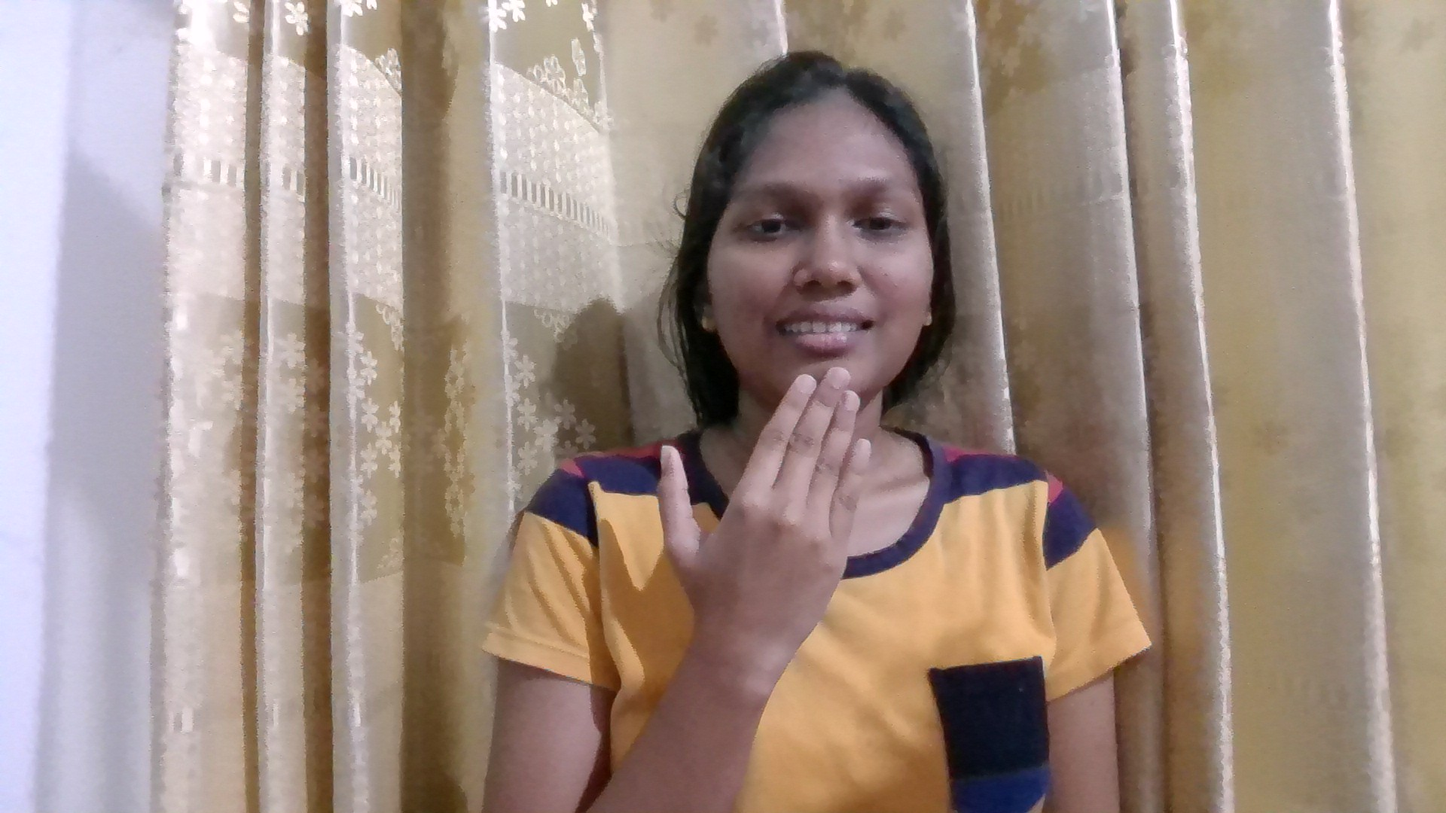Thank You: (642, 373, 999, 680)
